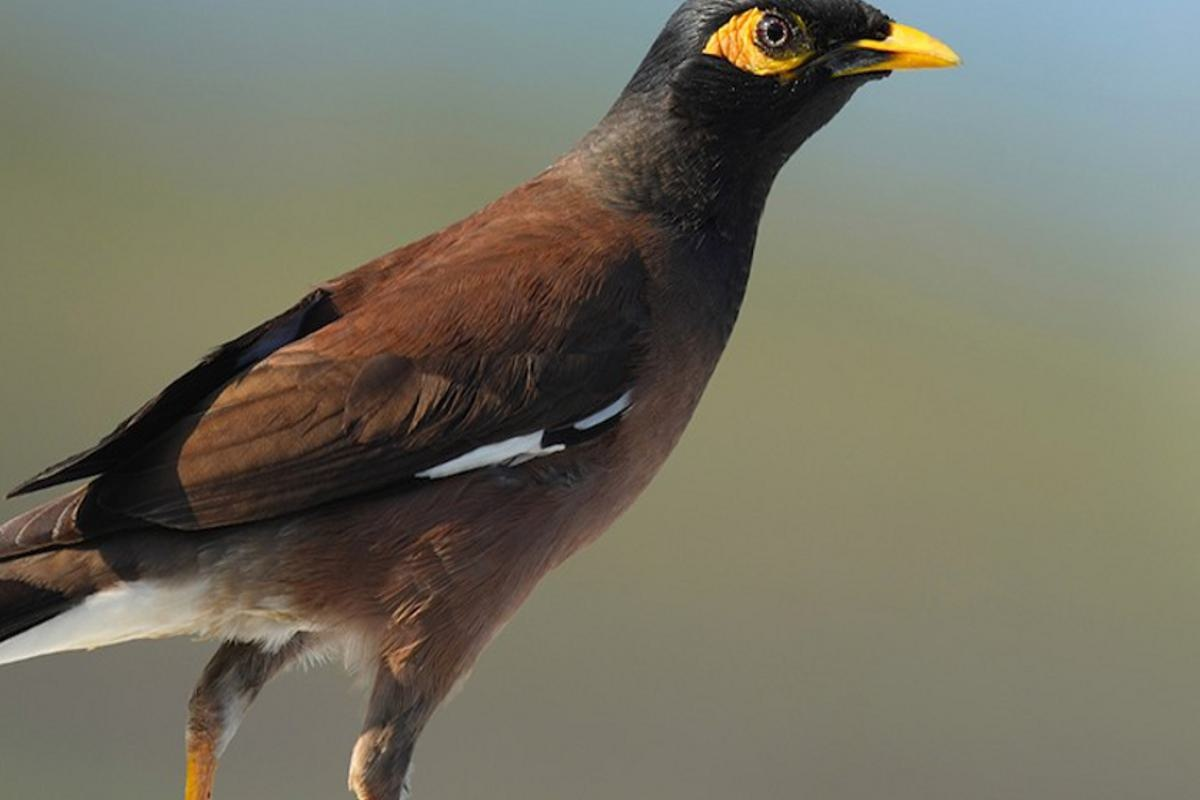myna: (30, 10, 971, 675)
